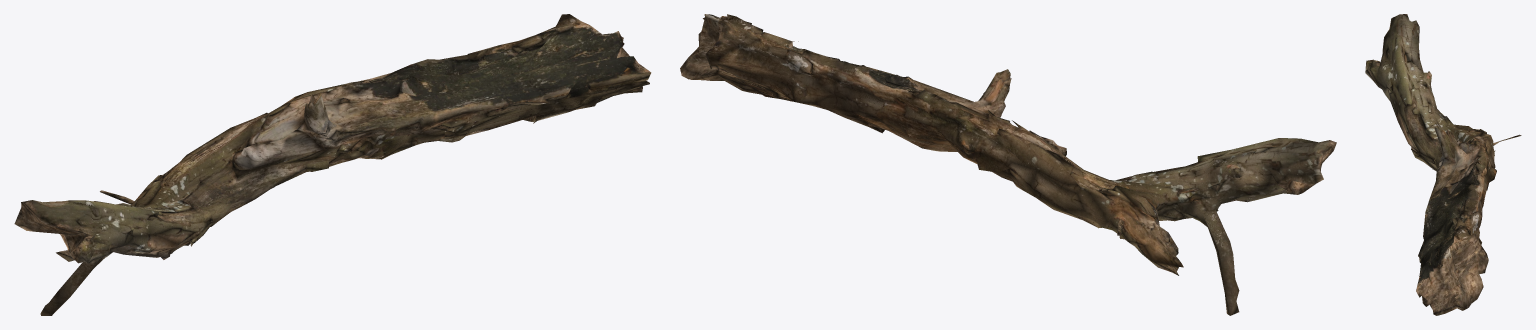
The model's file is fallen_trunk_02.glb.
3 views of the same model, side by side, from view 1: azimuth 30°, elevation 25°; view 2: azimuth 150°, elevation 25°; view 3: azimuth 270°, elevation 25° (orthographic). The views are drawn at different scales.
Visible parts, largest first — view 1: fallen_trunk_02; view 2: fallen_trunk_02; view 3: fallen_trunk_02.
Boxes of the visible parts, box(x1,y1,x2,y2) form: fallen_trunk_02: box(14, 14, 651, 315); fallen_trunk_02: box(680, 14, 1336, 315); fallen_trunk_02: box(1365, 14, 1521, 315).
Size of the model in its own units: 4.05 by 1.05 by 1.05.
1 material, 1 textured.
